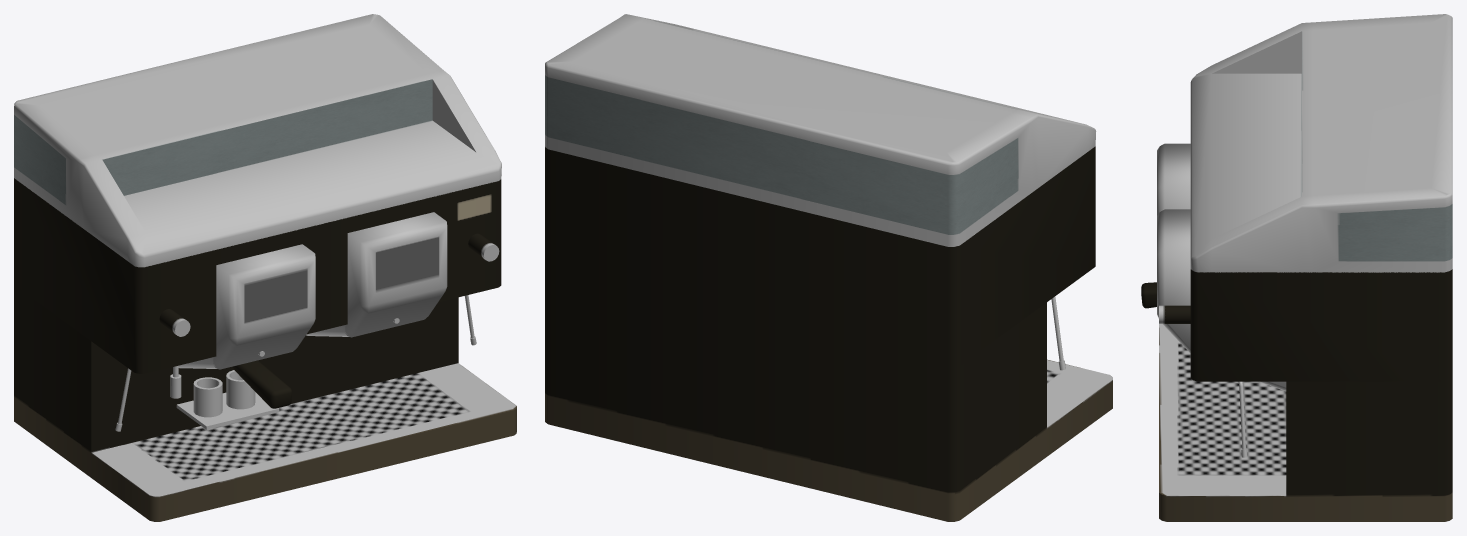
Rendered from LC_3041_CoffeeMachine_LOD3.FBX.
3 views of the same model, side by side, from view 1: azimuth 30°, elevation 25°; view 2: azimuth 150°, elevation 25°; view 3: azimuth 270°, elevation 25° (orthographic). The views are drawn at different scales.
Visible parts, largest first — view 1: LC_3041_CoffeeMachine_LOD3; view 2: LC_3041_CoffeeMachine_LOD3; view 3: LC_3041_CoffeeMachine_LOD3.
Part boxes in pixels (x1,y1,x2,y2): LC_3041_CoffeeMachine_LOD3: [14, 14, 516, 521]; LC_3041_CoffeeMachine_LOD3: [545, 14, 1112, 521]; LC_3041_CoffeeMachine_LOD3: [1141, 14, 1452, 521].
Size of the model in its own units: 75 by 61.96 by 53.73.
1 material, 1 textured.
